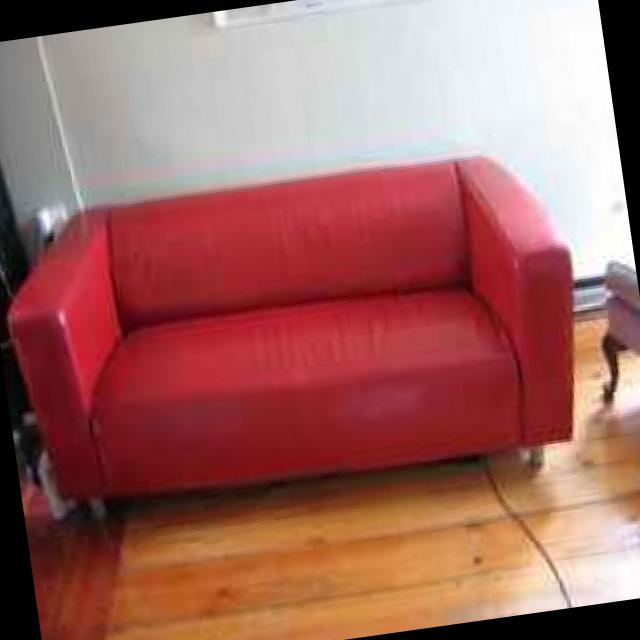floor -X: (9, 302, 640, 640)
sofa bed: (7, 149, 574, 522)
